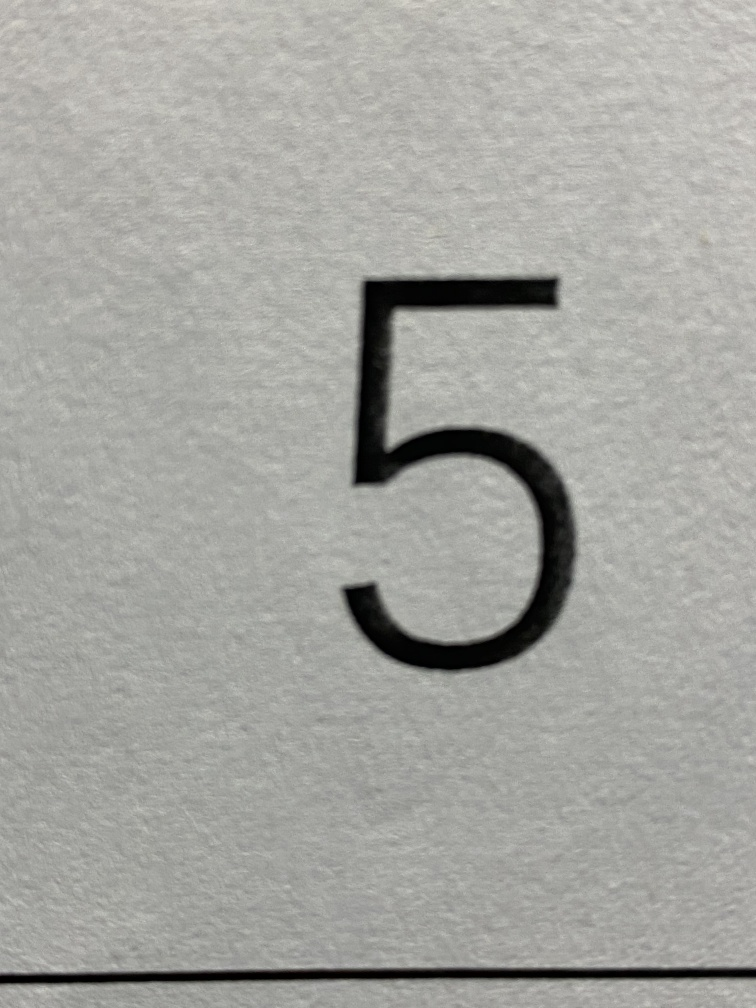five: (281, 227, 649, 731)
